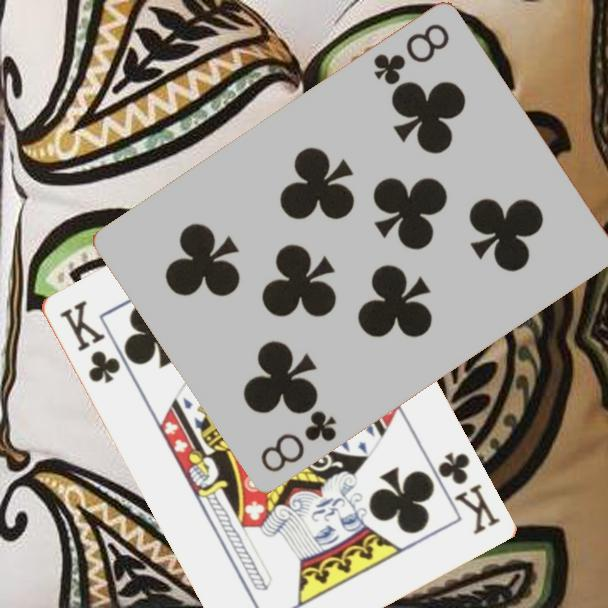c08: (256, 407, 340, 476), (369, 20, 453, 89)
c13: (433, 447, 503, 538), (55, 296, 123, 386)
